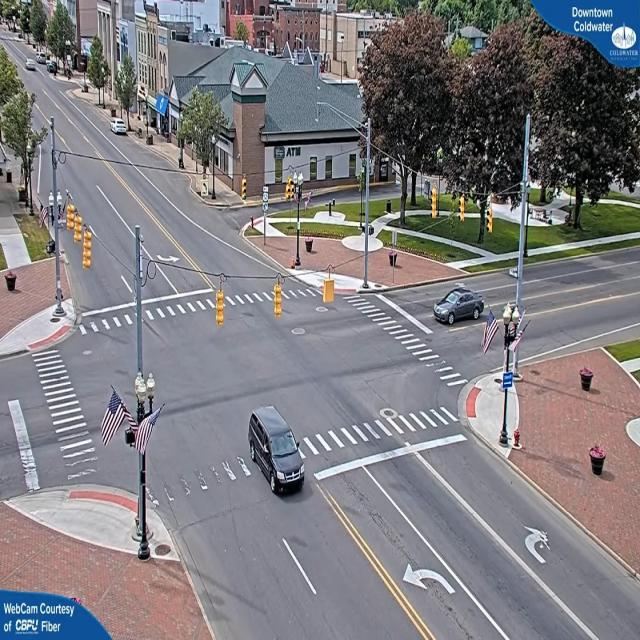car: (248, 410, 307, 498), (432, 286, 486, 326), (111, 120, 129, 136), (26, 60, 37, 72)
